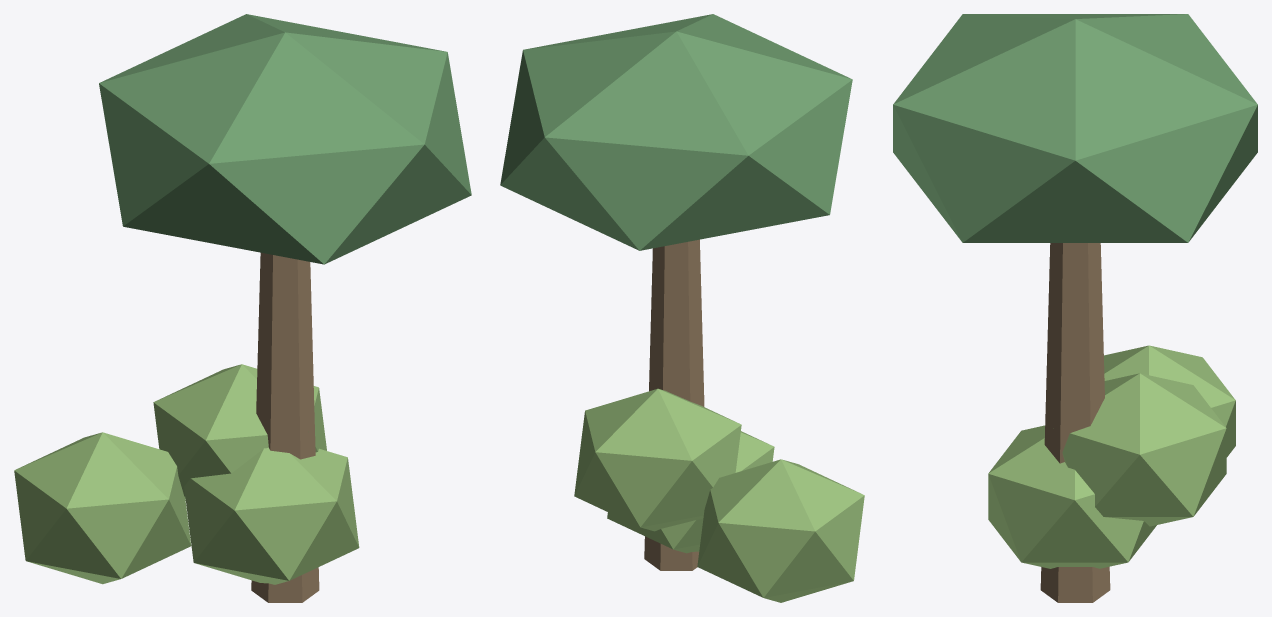
File: civ_nature_jungle.glb
3 renders of one model, left to right at view 1: azimuth 30°, elevation 25°; view 2: azimuth 150°, elevation 25°; view 3: azimuth 270°, elevation 25°, orthographic. The views are drawn at different scales.
Visible parts, largest first — view 1: civ_nature_jungle; view 2: civ_nature_jungle; view 3: civ_nature_jungle.
Part boxes in pixels (x1,y1,x2,y2): civ_nature_jungle: [14, 14, 471, 602]; civ_nature_jungle: [500, 14, 864, 602]; civ_nature_jungle: [893, 14, 1257, 602].
Size of the model in its own units: 1.7 by 2.35 by 1.36.
